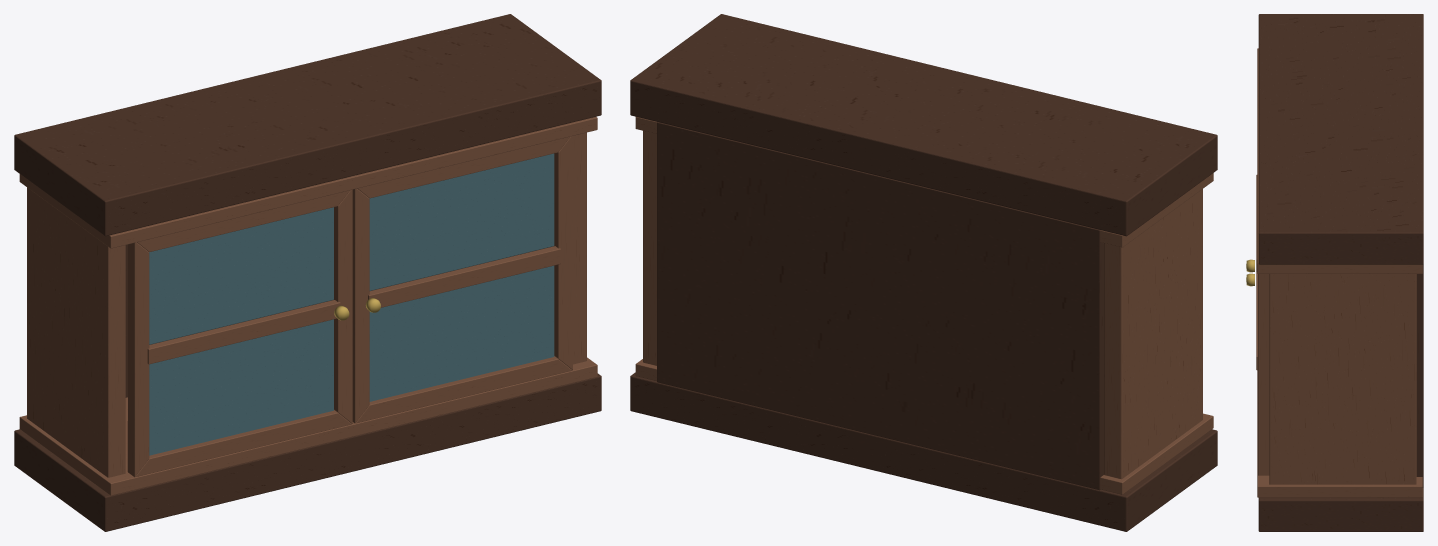
File: WallCabinet_FUR06.fbx
3 renders of one model, left to right at view 1: azimuth 30°, elevation 25°; view 2: azimuth 150°, elevation 25°; view 3: azimuth 270°, elevation 25°, orthographic. The views are drawn at different scales.
Visible parts, largest first — view 1: WallCabinet; view 2: WallCabinet; view 3: WallCabinet.
Boxes of the visible parts, box(x1,y1,x2,y2) form: WallCabinet: box(14, 14, 601, 531); WallCabinet: box(630, 14, 1217, 531); WallCabinet: box(1246, 14, 1423, 531).
Bounding box in the file's own units: 0.88 × 0.56 × 0.301.
1 material, 1 textured.
